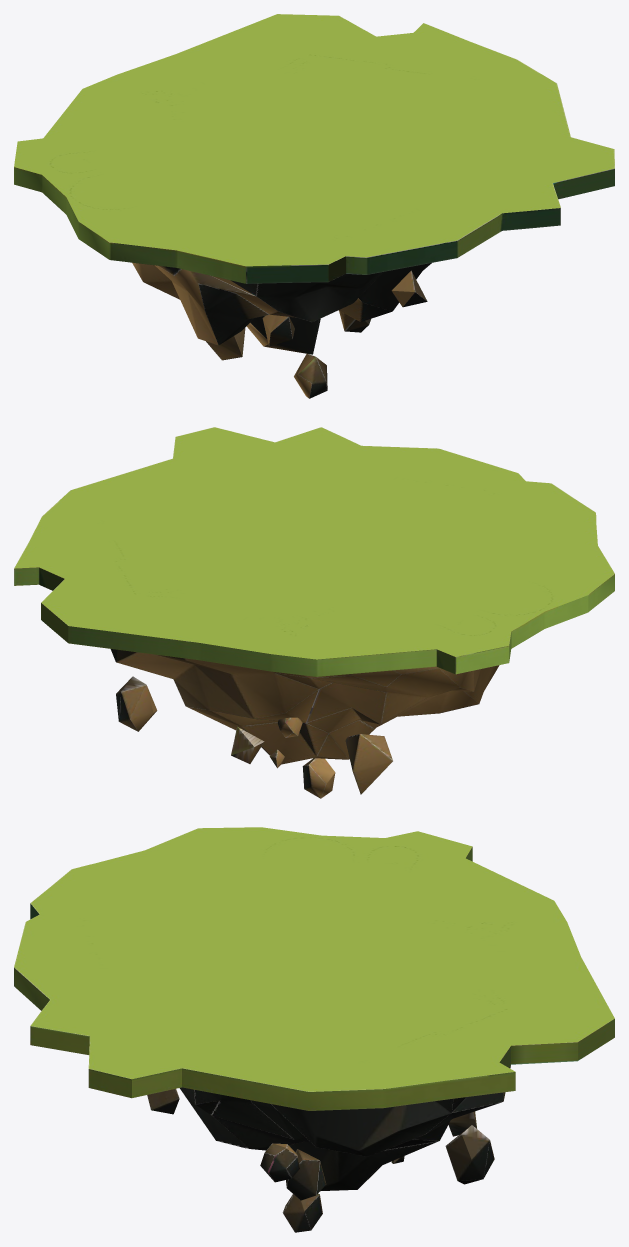
The model's file is island.glb.
3 views of the same model, one above another, from view 1: azimuth 30°, elevation 25°; view 2: azimuth 150°, elevation 25°; view 3: azimuth 270°, elevation 25° (orthographic). The views are drawn at different scales.
Visible parts, largest first — view 1: Mesh_0; view 2: Mesh_0; view 3: Mesh_0.
Part boxes in pixels (box(x1,y1,x2,y2)): Mesh_0: box(14, 14, 614, 398); Mesh_0: box(14, 427, 614, 798); Mesh_0: box(14, 827, 614, 1232).
Size of the model in its own units: 317 by 152 by 304.
2 materials, 2 textured.
